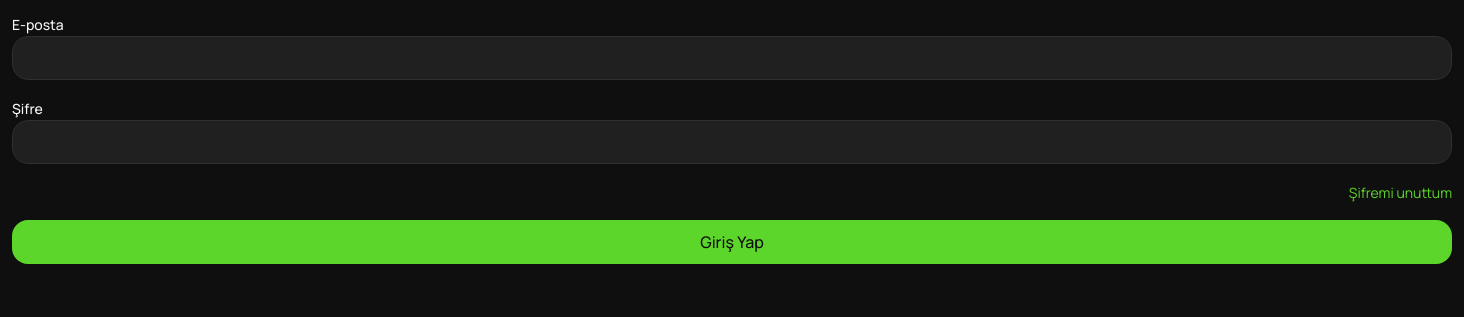
Scenario: LoginForm › shows error message when server returns failure
The width and height of the screenshot is (1464, 317).
Type "a@b.com" into the field labelled "E-posta" at (732, 58), box x1=12 y1=36 x2=1452 y2=80
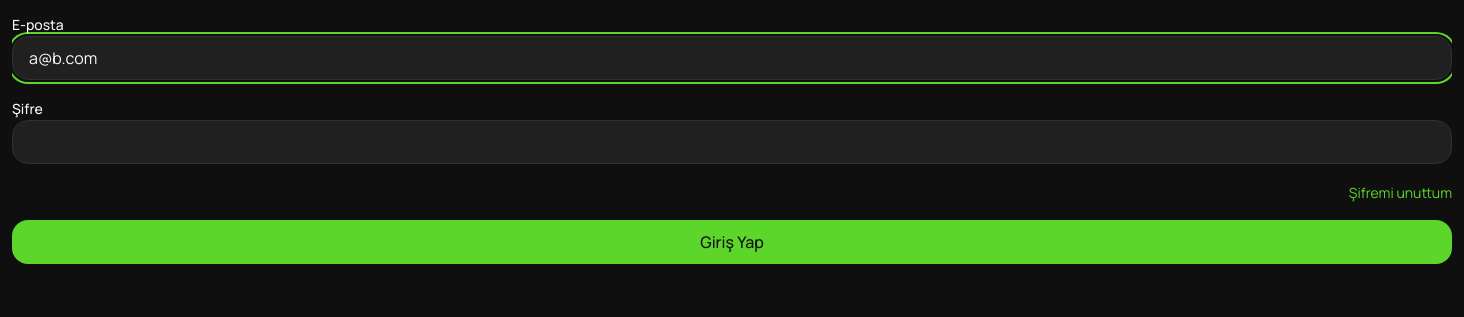
Type "X1abcdef" into the password field labelled "Şifre" at (732, 142), box x1=12 y1=120 x2=1452 y2=164
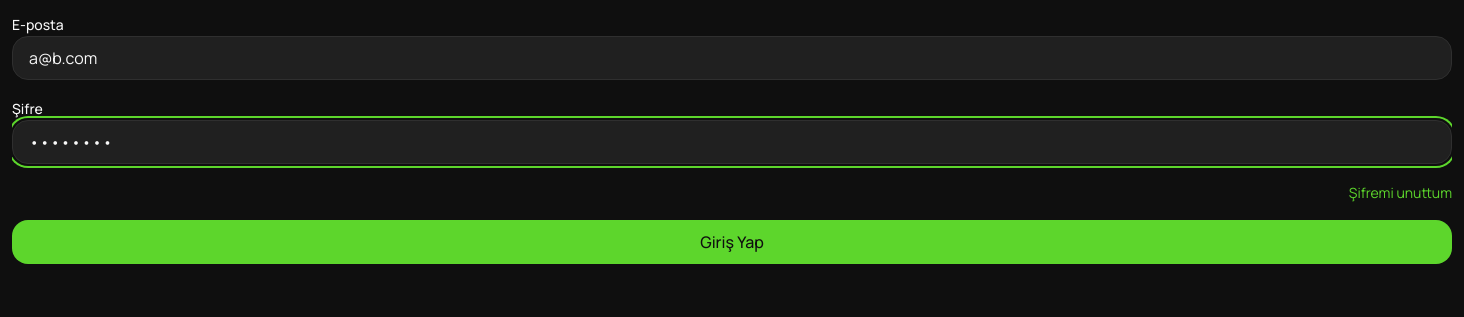
Click the button "Giriş Yap" at (732, 242), box x1=12 y1=220 x2=1452 y2=264
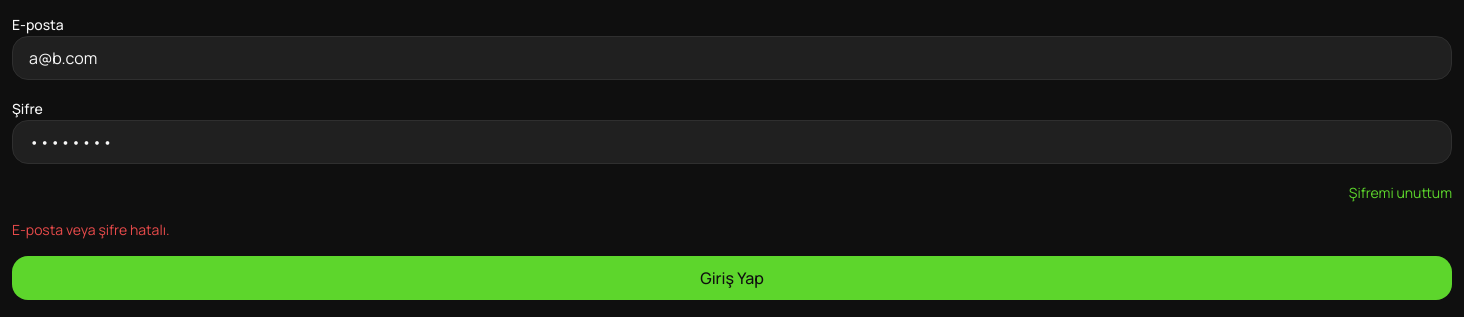
Expected: the text "E-posta veya şifre hatalı." is shown, x1=12 y1=220 x2=170 y2=239
